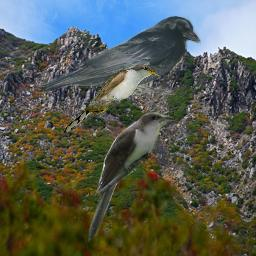Crow: (37, 15, 201, 95)
Cuckoo: (84, 110, 174, 245), (62, 63, 161, 134)
